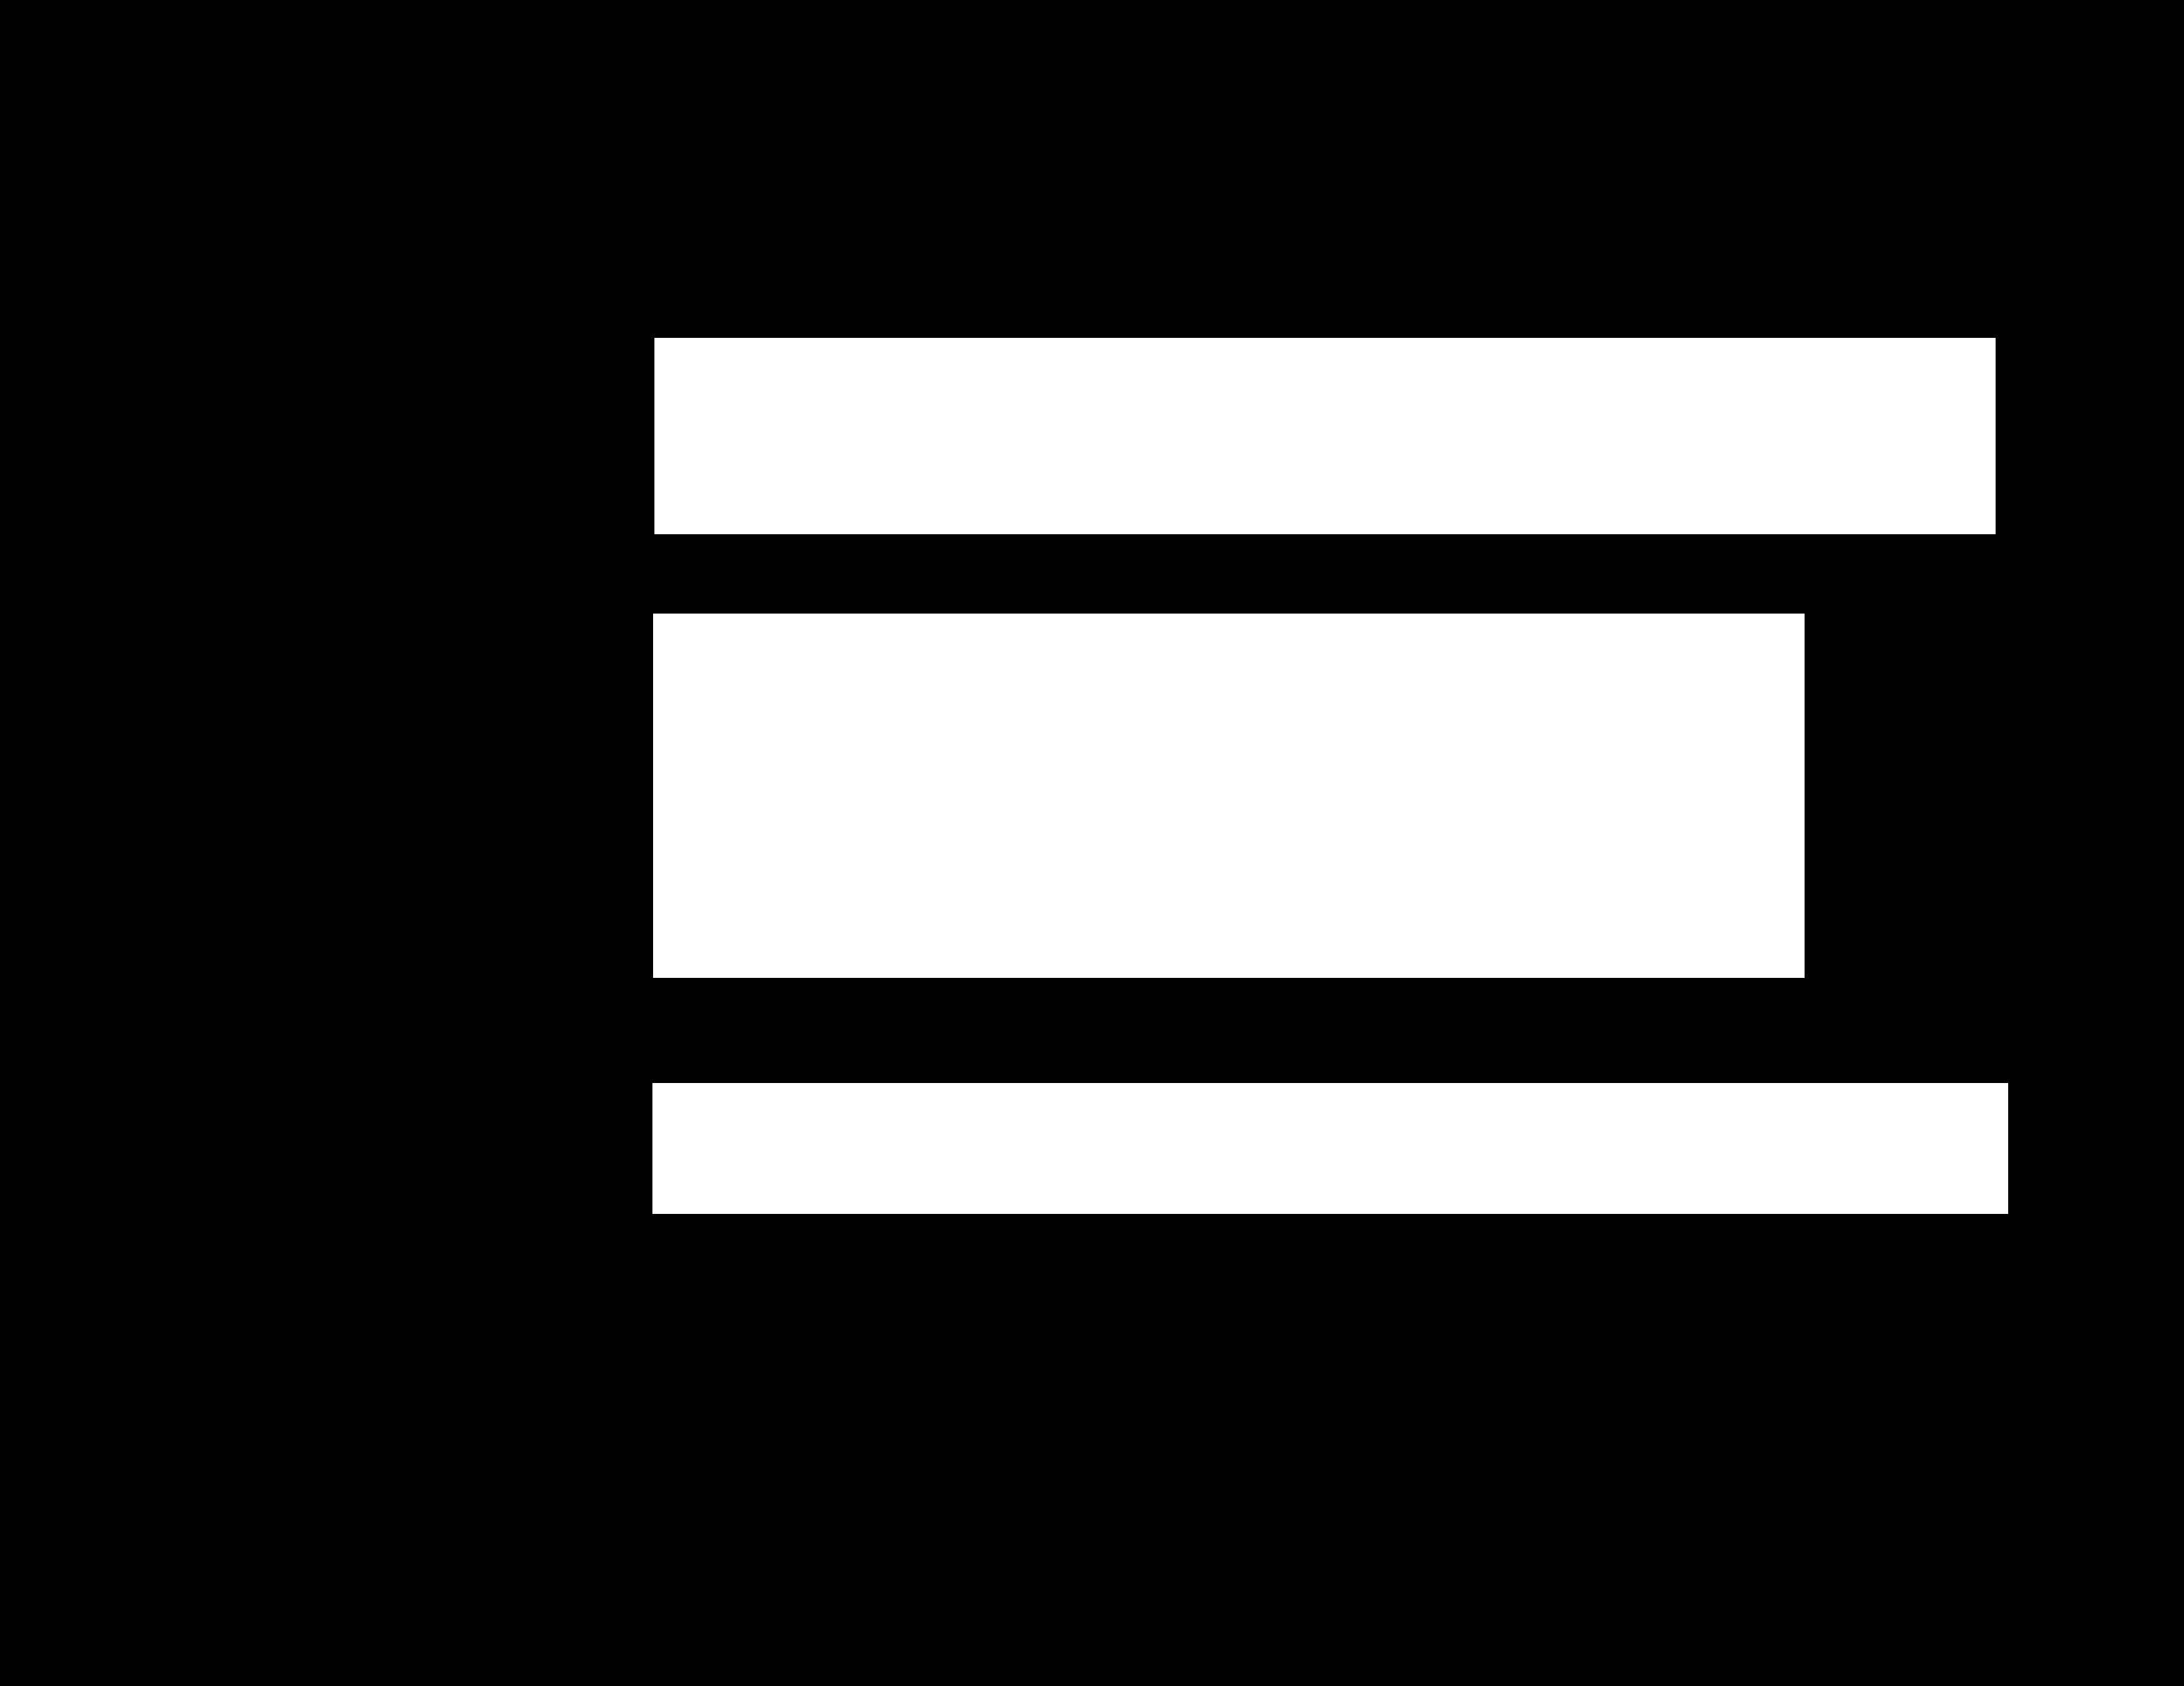table: (653, 613, 1803, 978), (655, 338, 1995, 533), (653, 1084, 2007, 1213)
